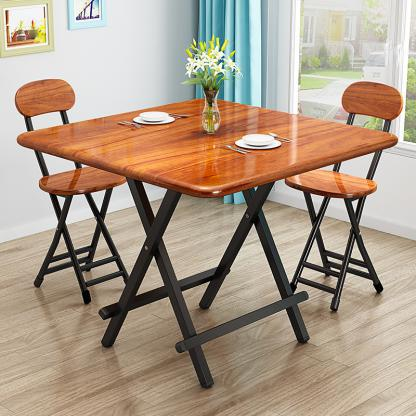table: (13, 89, 402, 392)
